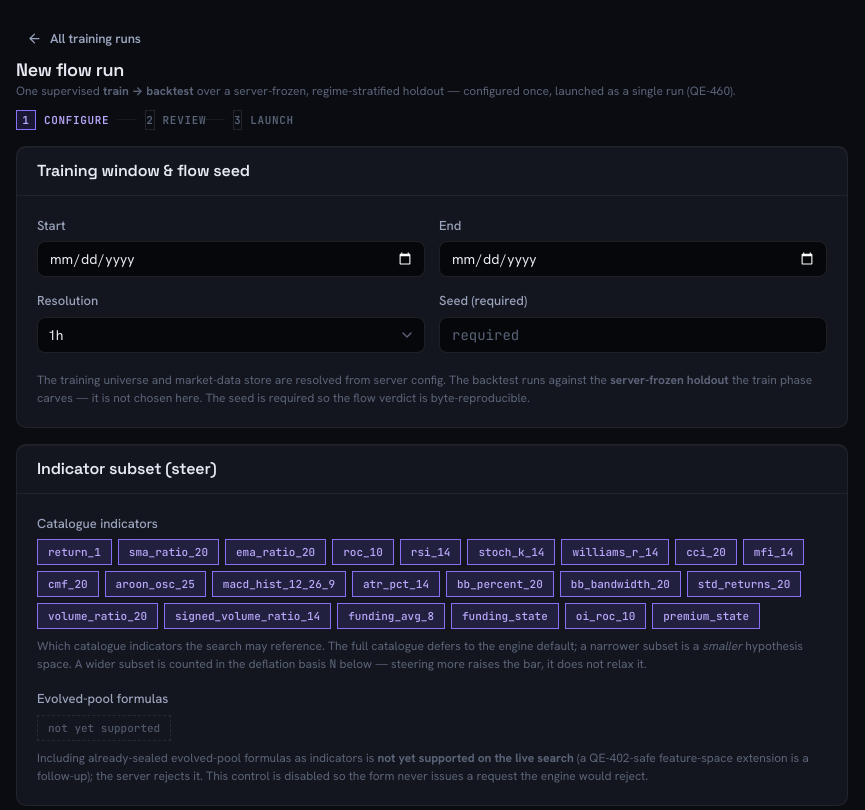
Test: NewFlow — the single stepped composite-flow page › requires a seed and never advances / POSTs without one
This screenshot has width=865, height=810.
Type "2021-01-01" into the date field labelled "Start" at [231, 259], box [48,242,414,276]
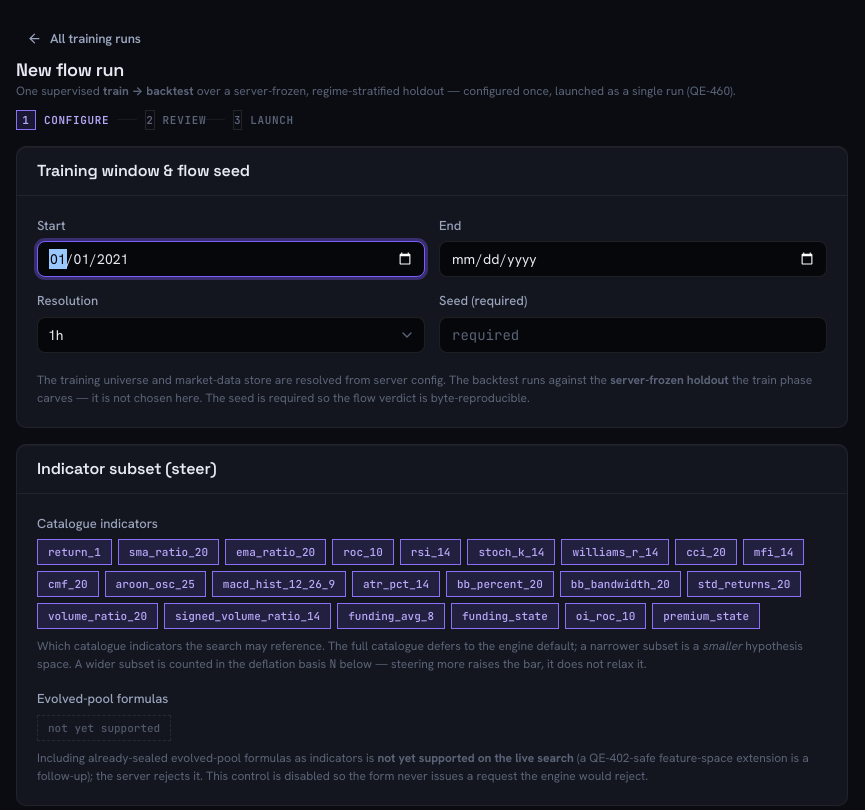
Type "2021-06-01" into the date field labelled "End" at [633, 259], box [450,242,816,276]
(page scrolled)
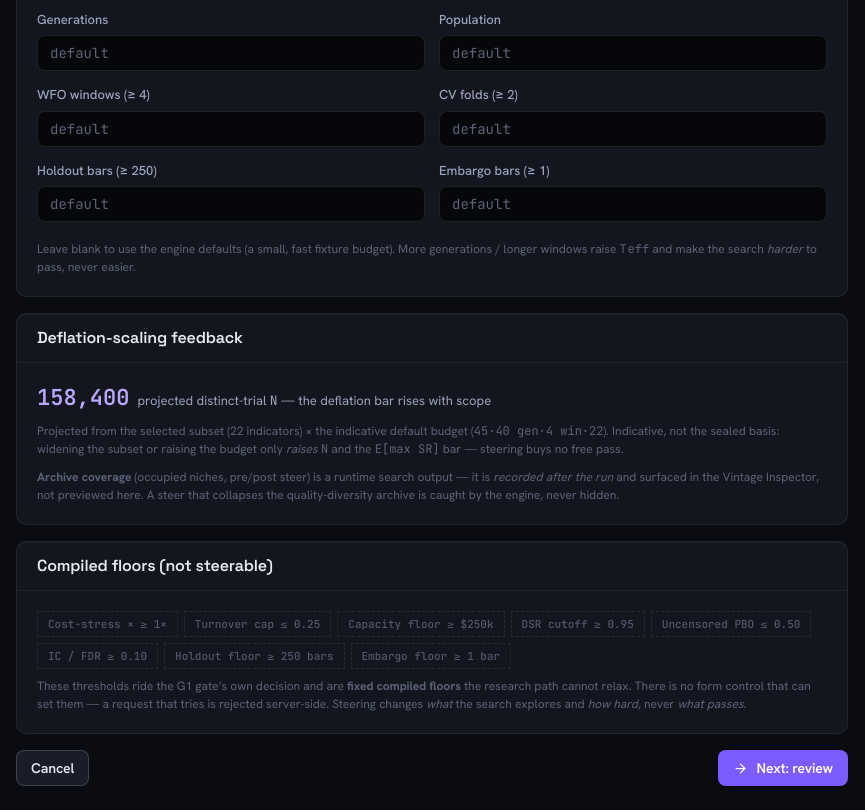
Note: No seed entered.
Click the button "Next: review" at [783, 768], box [718,750,848,786]
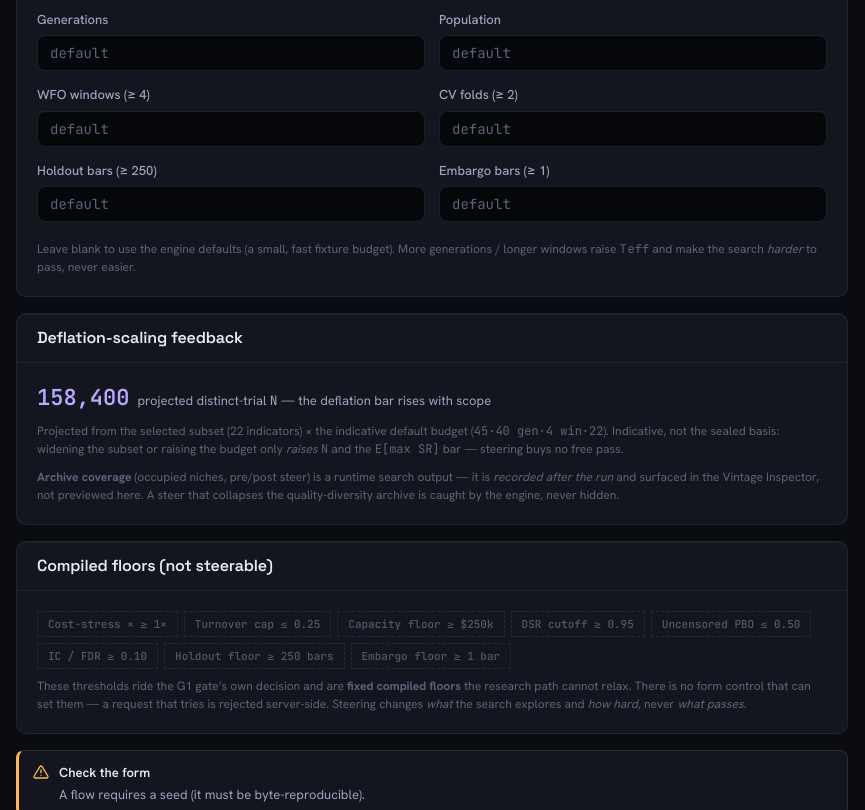
Check: the text "requires a seed" is shown, box [59,786,365,803]
